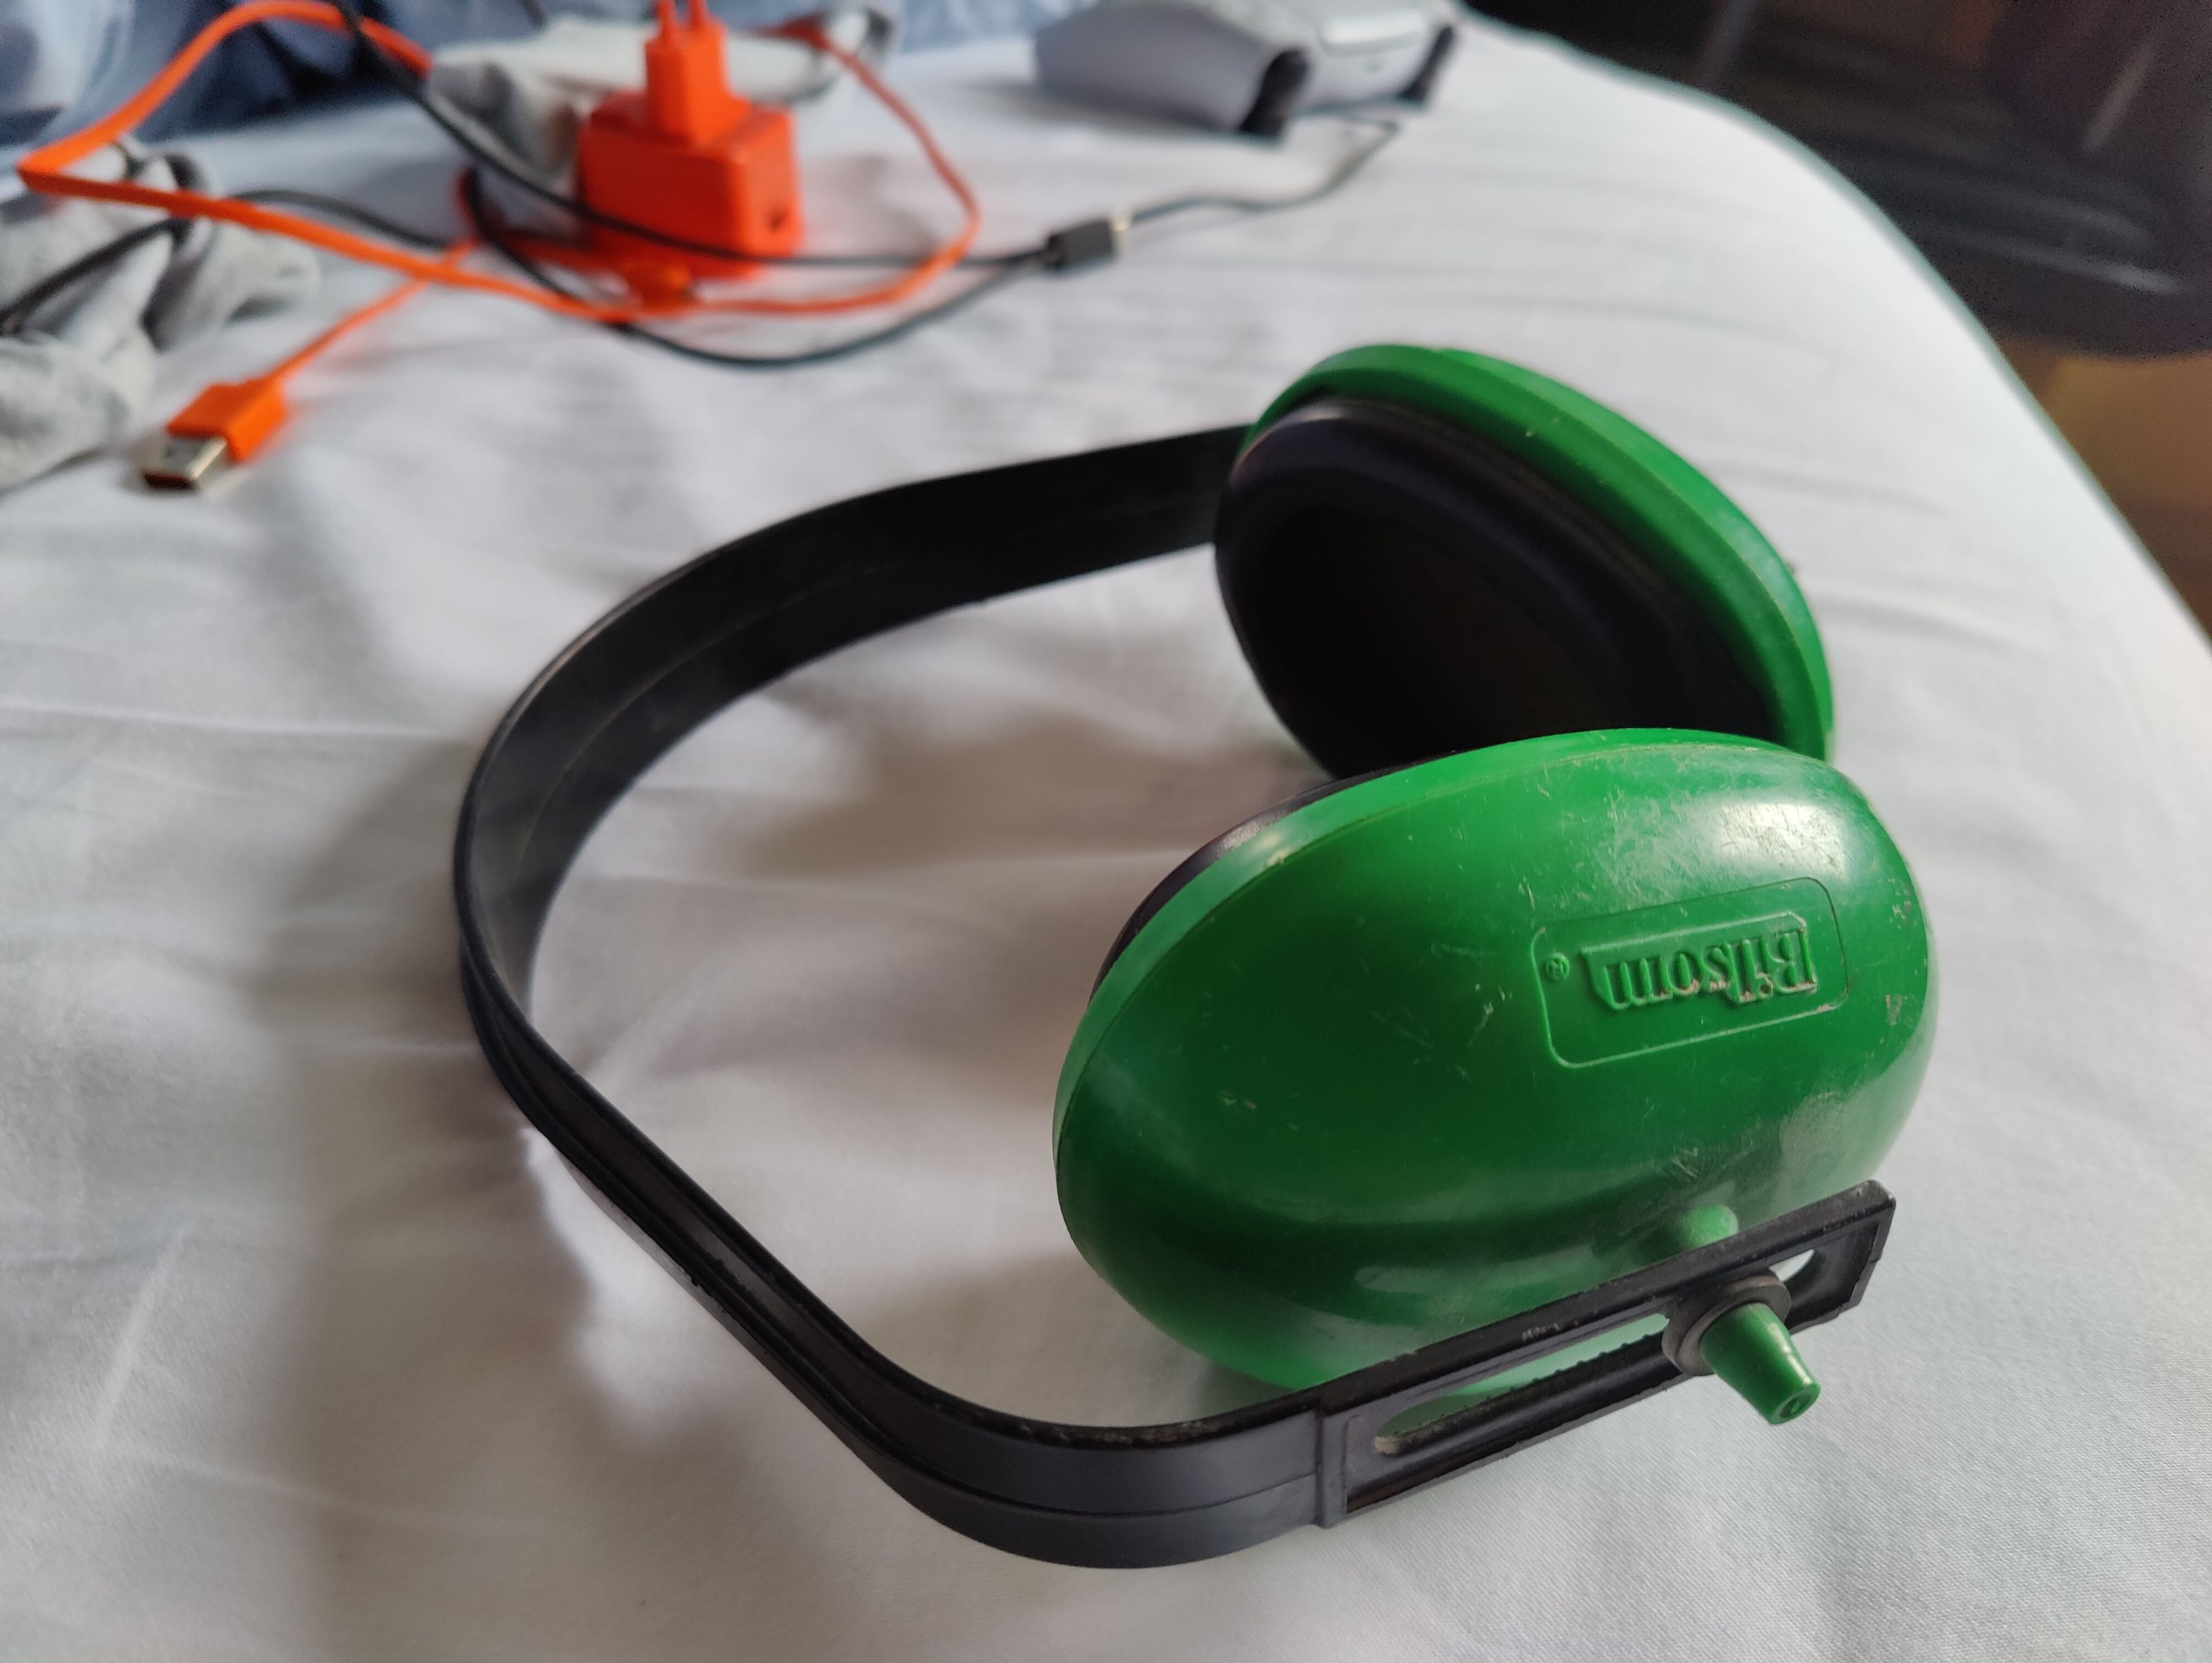headphones: (444, 339, 1948, 1546)
